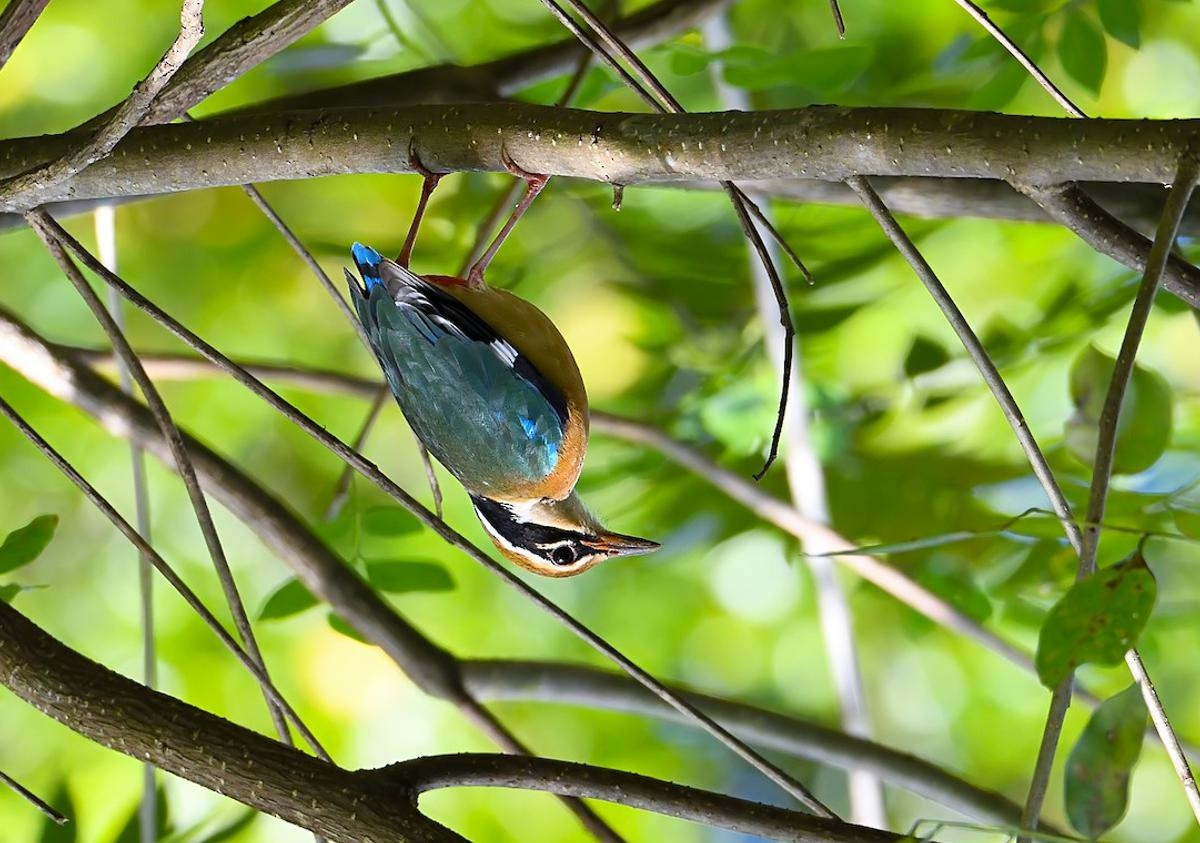pitta: (327, 191, 661, 588)
